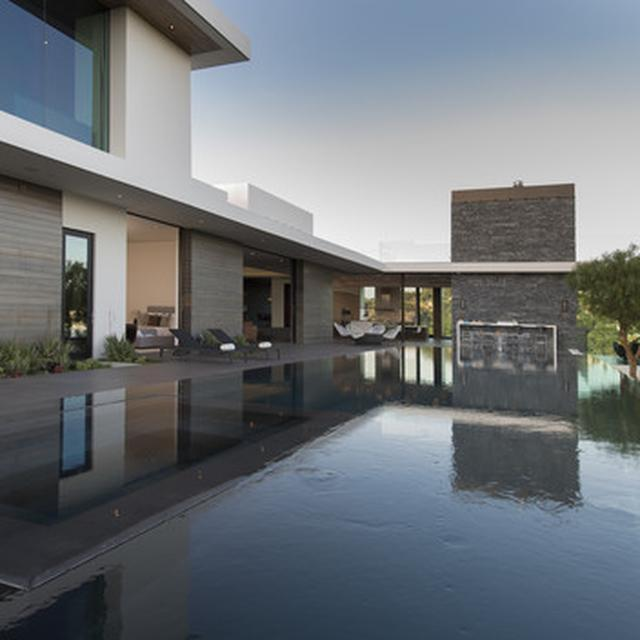building: (0, 0, 385, 357), (446, 182, 582, 366)
